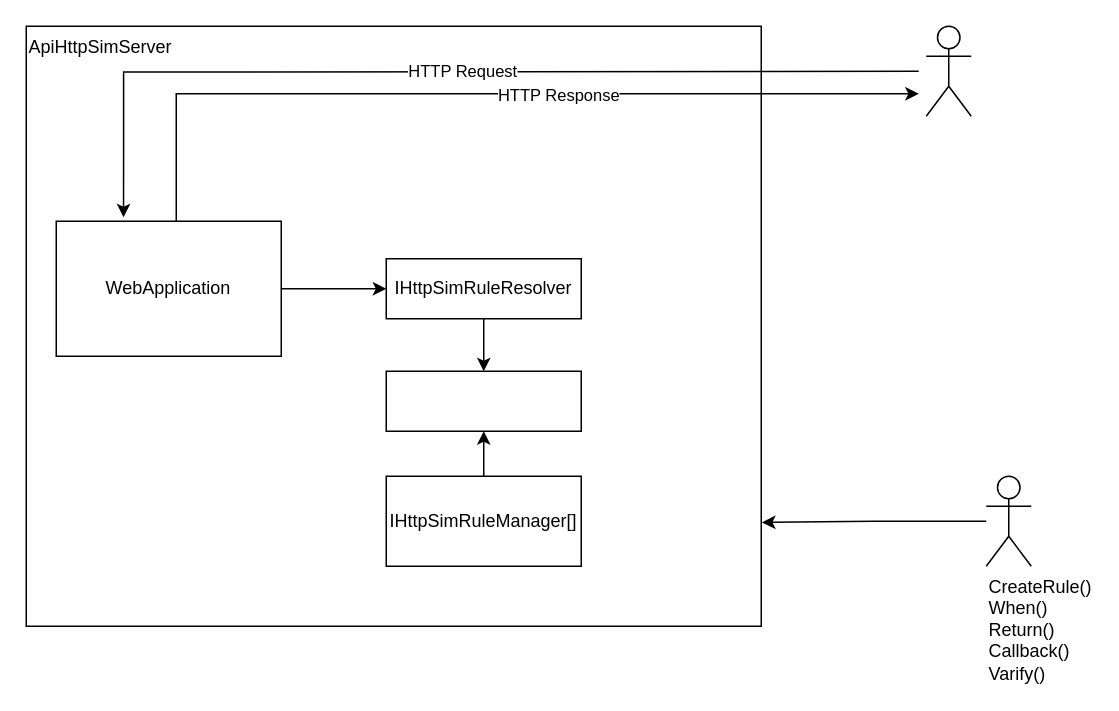
Some shapes in this 1119 by 711 pixel diagram are drawn without their labels. The centre of each missing label's shape, as x and y in pixels:
IHttpSimRuleStore: [483,400]
Test: [948,70]
